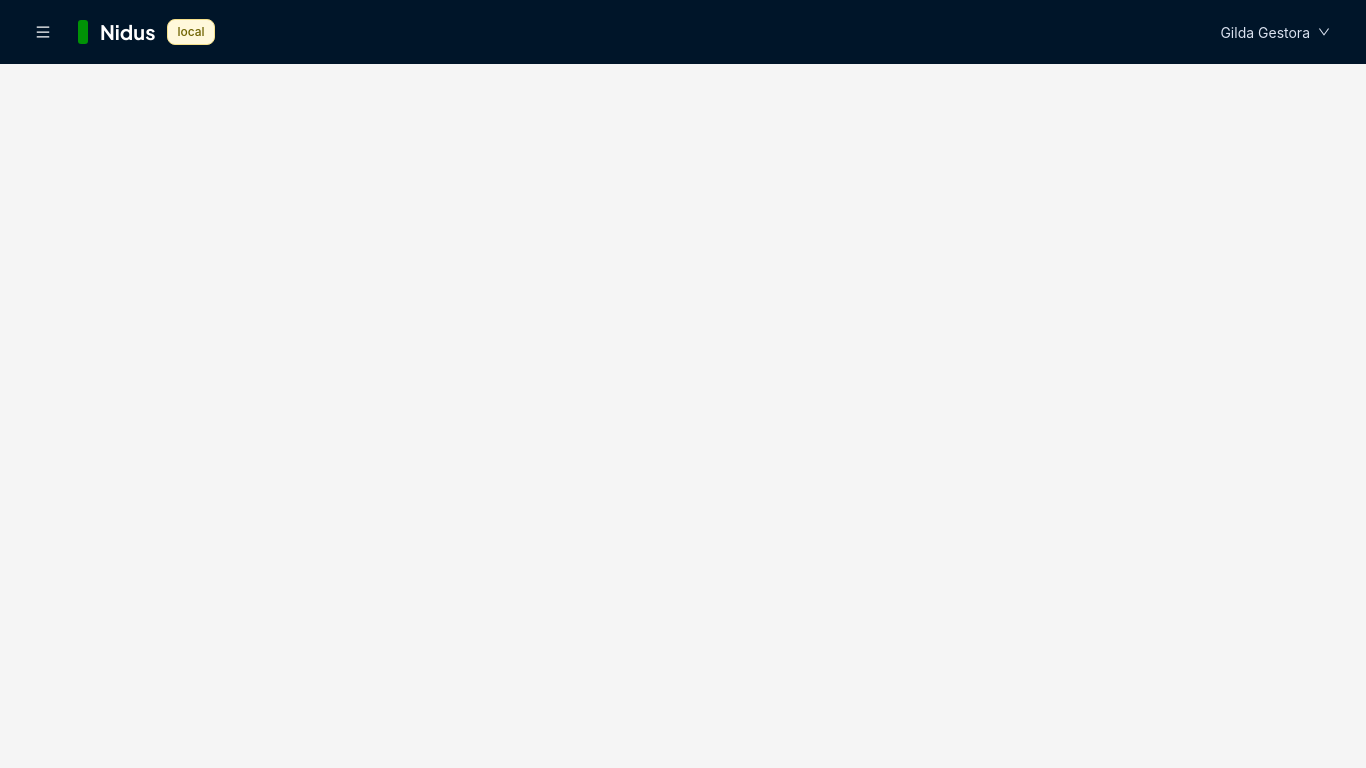
Test: menu das telas no tablet › abre pelo botão do cabeçalho, sem gatilho em cima da tela, e fecha ao escolher a tela
This screenshot has width=1366, height=768.
Click the button named "Abrir o menu" at coordinates (43, 32), box top-left (20, 16), bottom-right (66, 48)
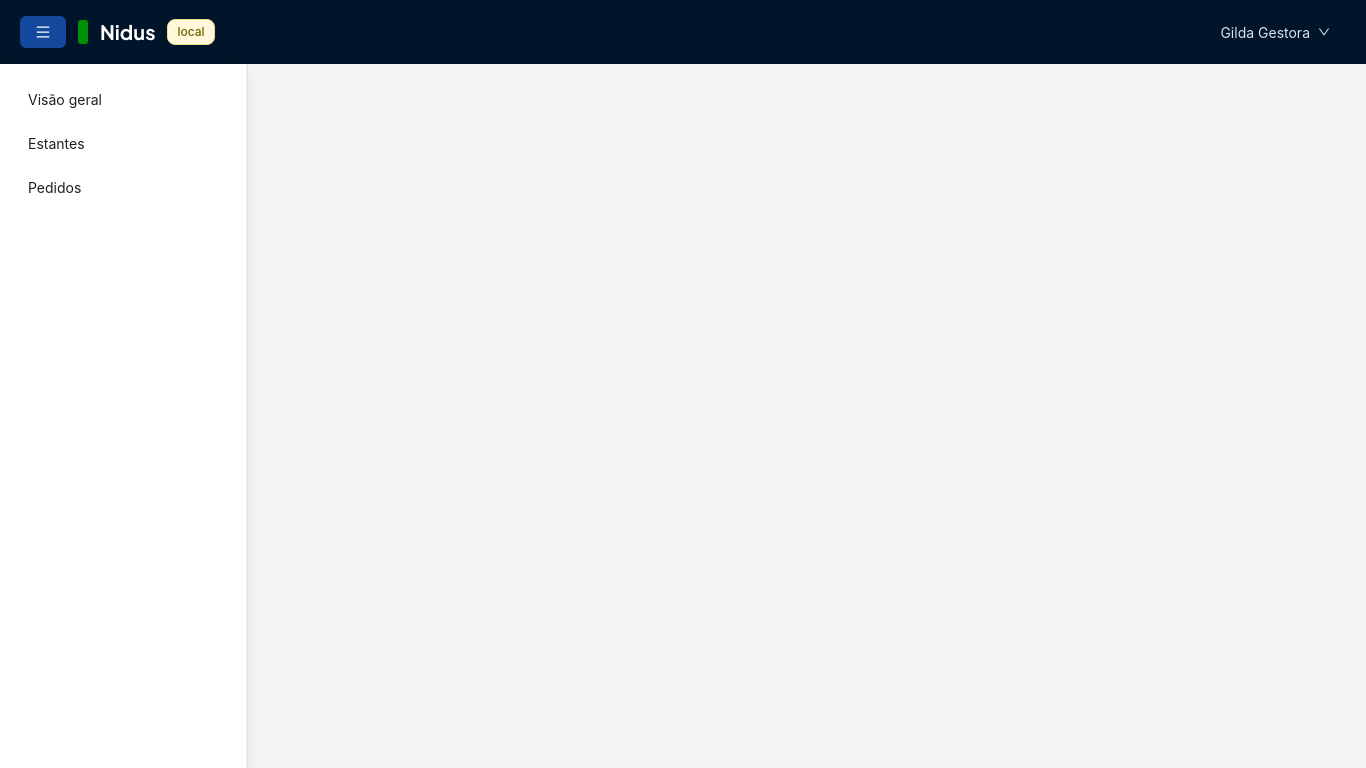
Expected: the button named "Fechar o menu" is expanded, top-left (20, 16), bottom-right (66, 48)
Click the menu item "Estantes" at coordinates (56, 144), box top-left (28, 135), bottom-right (85, 152)
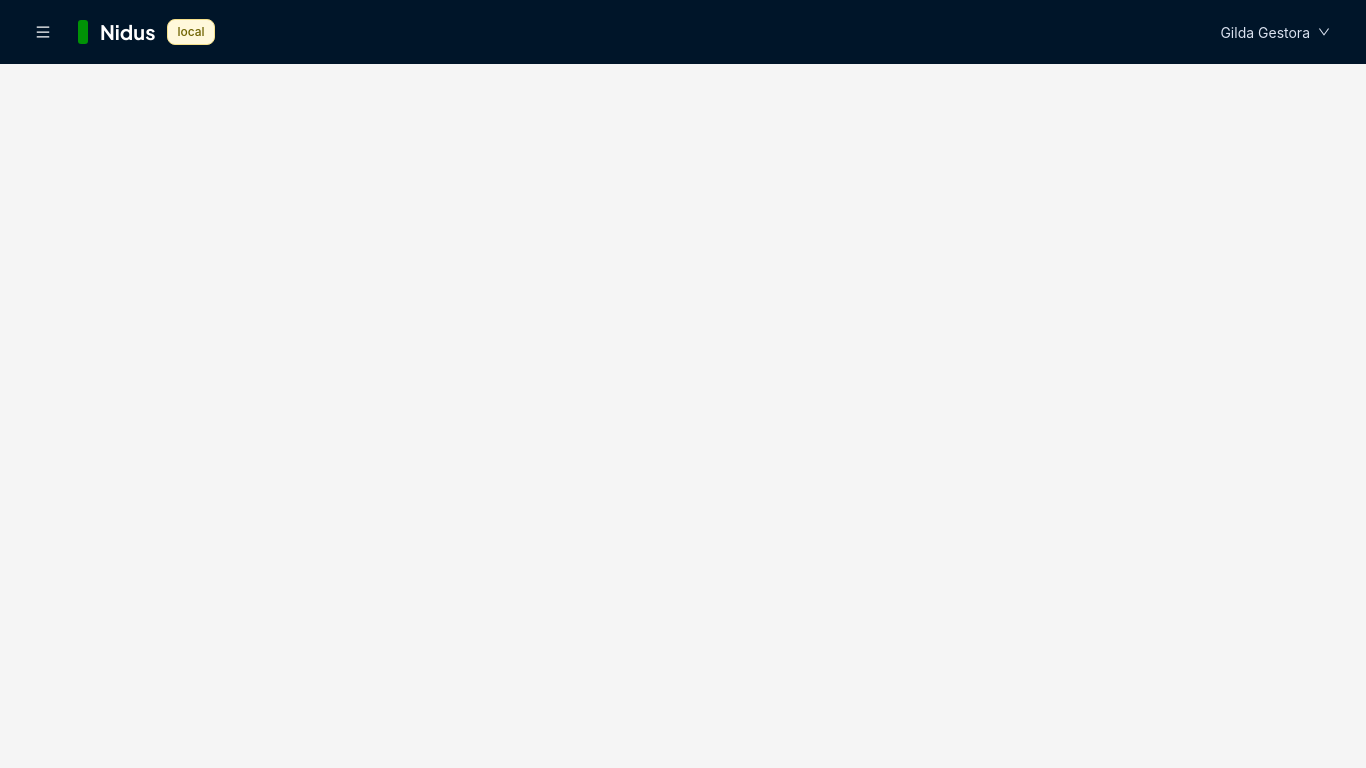
Expected: the button named "Abrir o menu" is shown, top-left (20, 16), bottom-right (66, 48)
